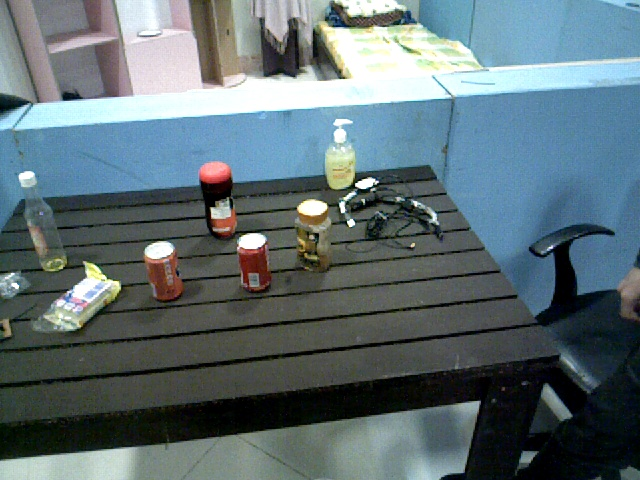coca: (237, 232, 272, 294)
coffee: (297, 201, 333, 274)
cream: (197, 162, 238, 239)
fanta: (145, 240, 181, 304)
